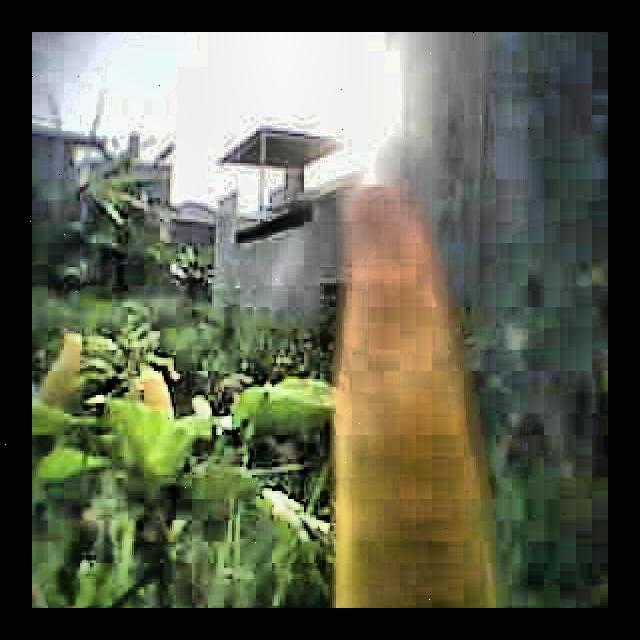Cabai: (326, 183, 500, 608)
